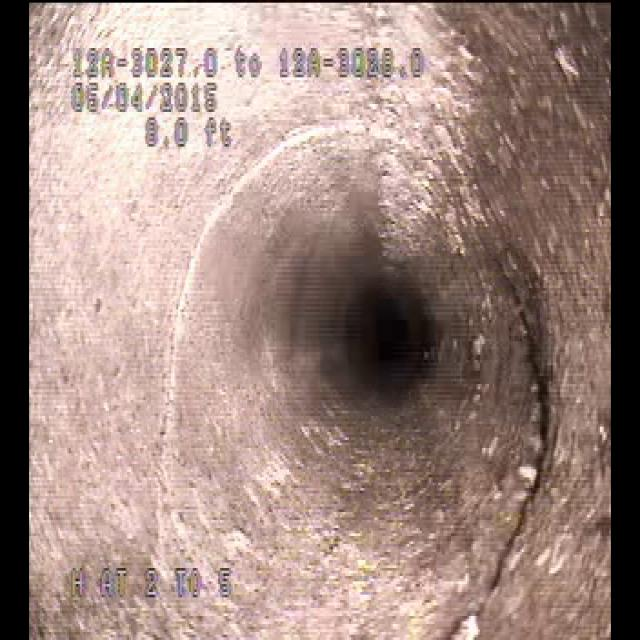Fracture: (470, 213, 572, 619)
